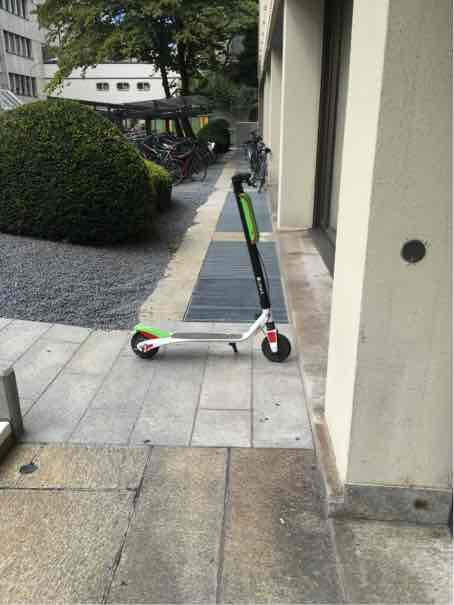scooter: (117, 126, 296, 373)
